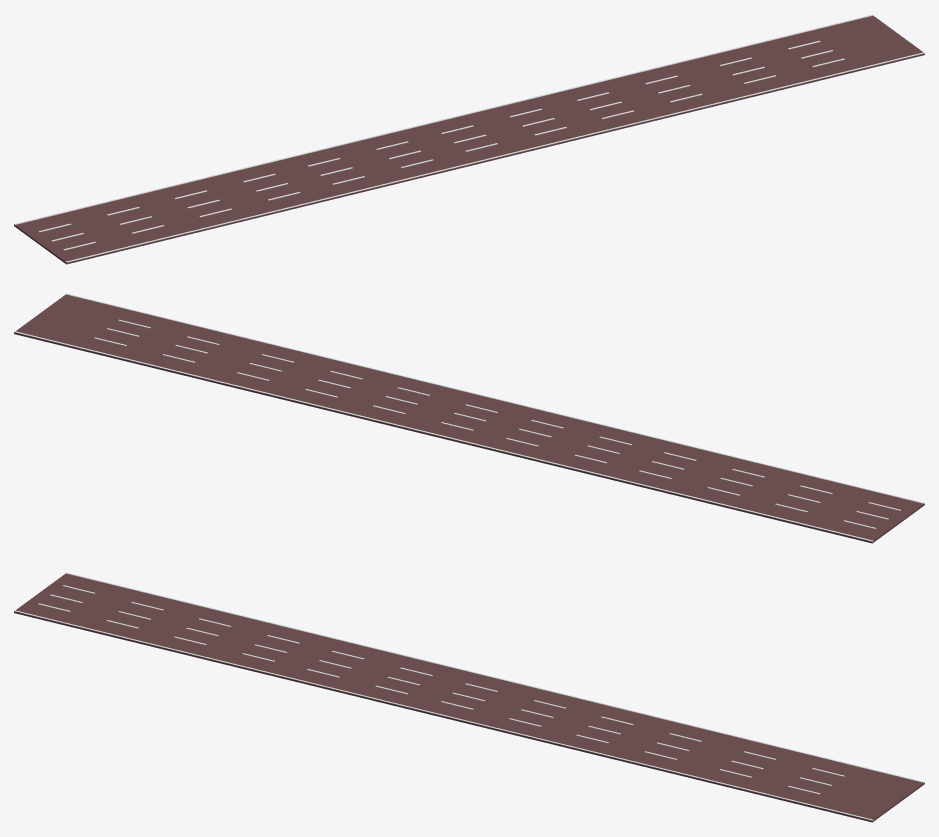
File: chedao_04.FBX
3 views of the same model, one above another, from view 1: azimuth 30°, elevation 25°; view 2: azimuth 150°, elevation 25°; view 3: azimuth 330°, elevation 25° (orthographic).
Parts seen in each view (by area): view 1: chedao_04; view 2: chedao_04; view 3: chedao_04.
Boxes of the visible parts, x1,y1,x2,y2 form: chedao_04: (14,14,924,264); chedao_04: (14,293,924,543); chedao_04: (14,572,924,822).
Bounding box in the file's own units: 19138 × 46.66 × 2027.
